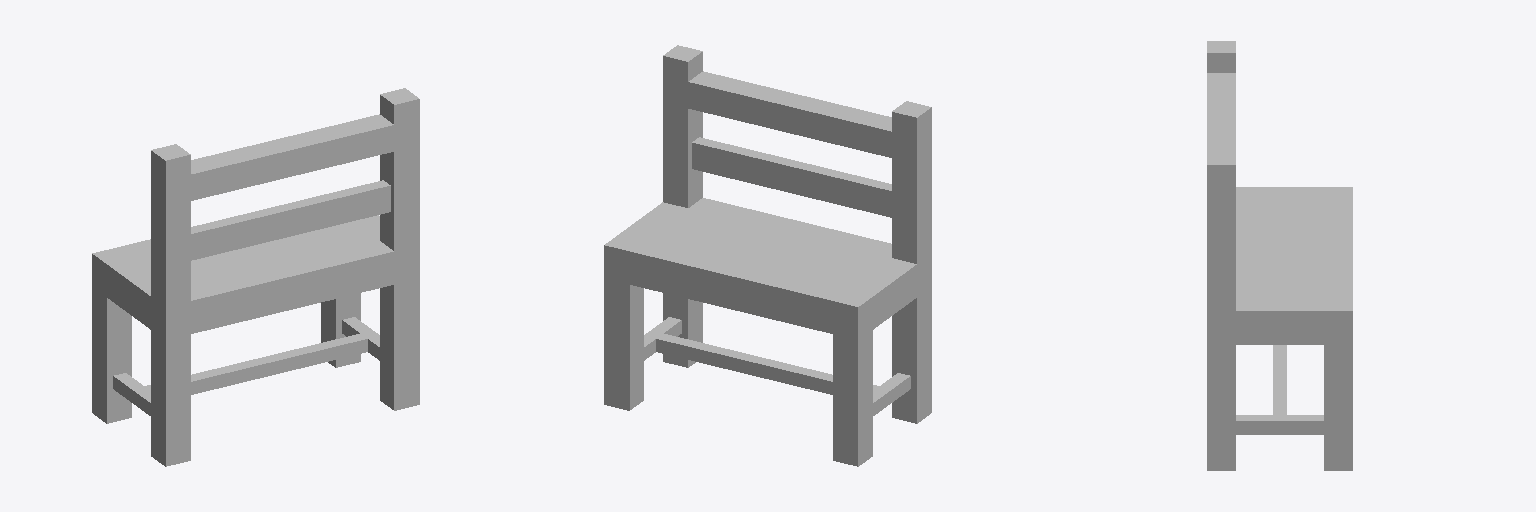
Rendered from benchCushion.obj.
3 renders of one model, left to right at view 1: azimuth 30°, elevation 25°; view 2: azimuth 150°, elevation 25°; view 3: azimuth 270°, elevation 25°, orthographic.
Visible parts, largest first — view 1: benchCushion; view 2: benchCushion; view 3: benchCushion.
Part boxes in pixels (x1,y1,x2,y2): benchCushion: (92, 88, 419, 466); benchCushion: (604, 45, 931, 466); benchCushion: (1207, 41, 1352, 470).
Size of the model in its own units: 0.4 by 0.46 by 0.2.